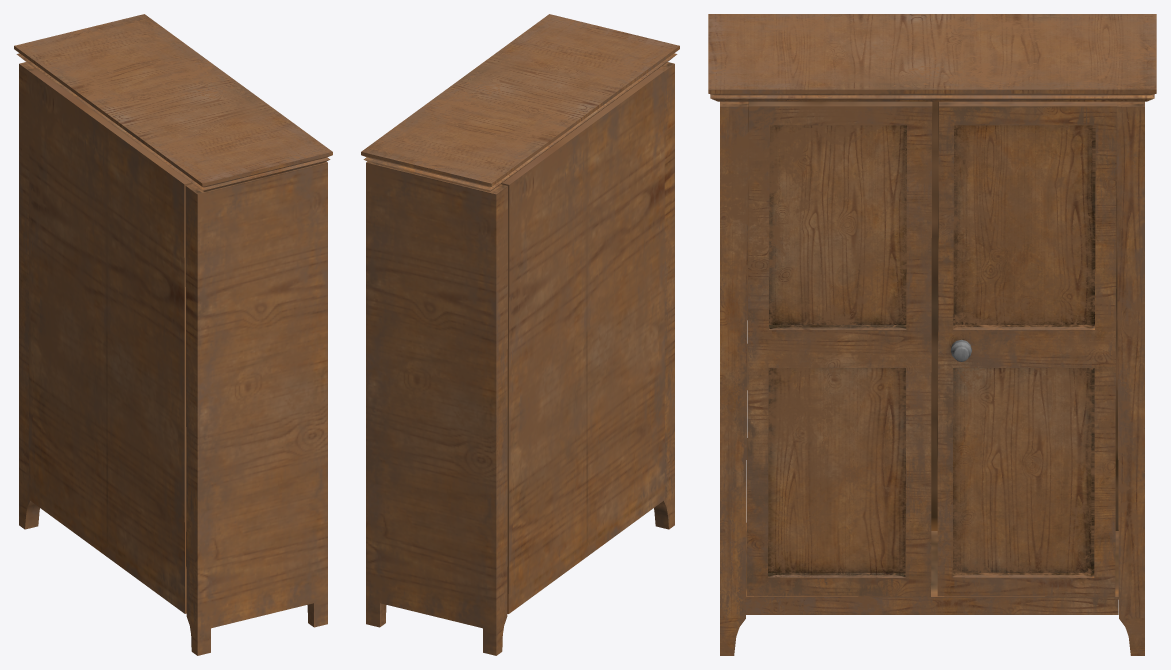
File: uploads_files_2996899_wardrobefbx.fbx
The picture shows the model from 3 angles, left to right: view 1: azimuth 30°, elevation 25°; view 2: azimuth 150°, elevation 25°; view 3: azimuth 270°, elevation 25°; orthographic projection. The views are drawn at different scales.
Parts seen in each view (by area): view 1: Null; view 2: Null; view 3: Null.
Part boxes in pixels (bbox=[...]): Null: bbox=[14, 14, 332, 655]; Null: bbox=[361, 14, 679, 655]; Null: bbox=[708, 14, 1156, 655].
Size of the model in its own units: 217 by 697 by 500.
